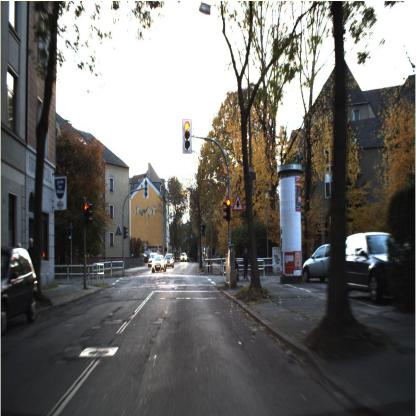danger: (229, 190, 245, 216)
